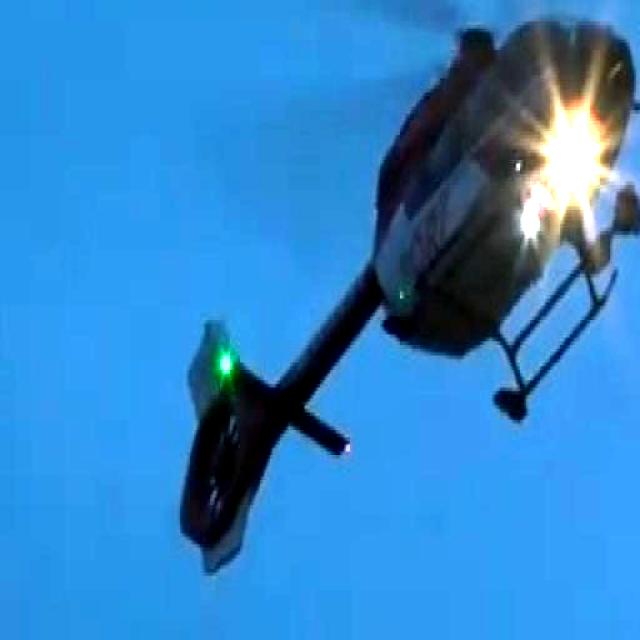drone: (164, 0, 640, 592)
